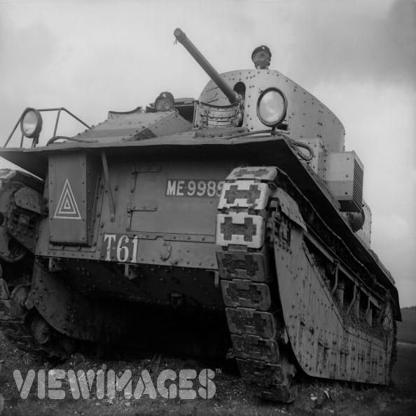Tank: (7, 43, 407, 410)
